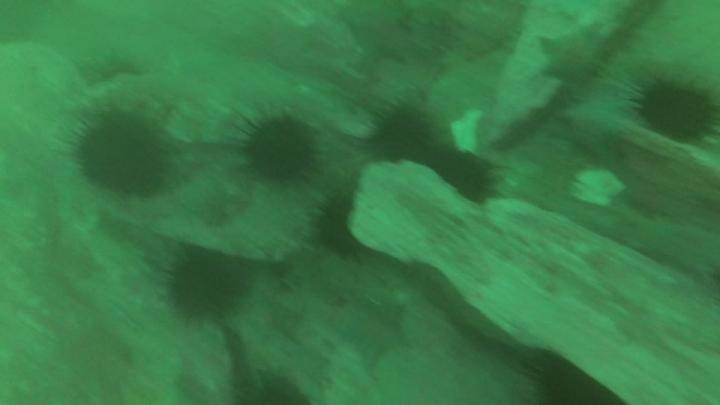echinus: (81, 112, 165, 196), (165, 258, 242, 321), (640, 85, 715, 142), (246, 118, 313, 177), (434, 146, 492, 199), (375, 106, 426, 163), (320, 197, 362, 255)
starfish: (345, 6, 412, 69), (346, 306, 408, 365), (541, 27, 601, 85)
